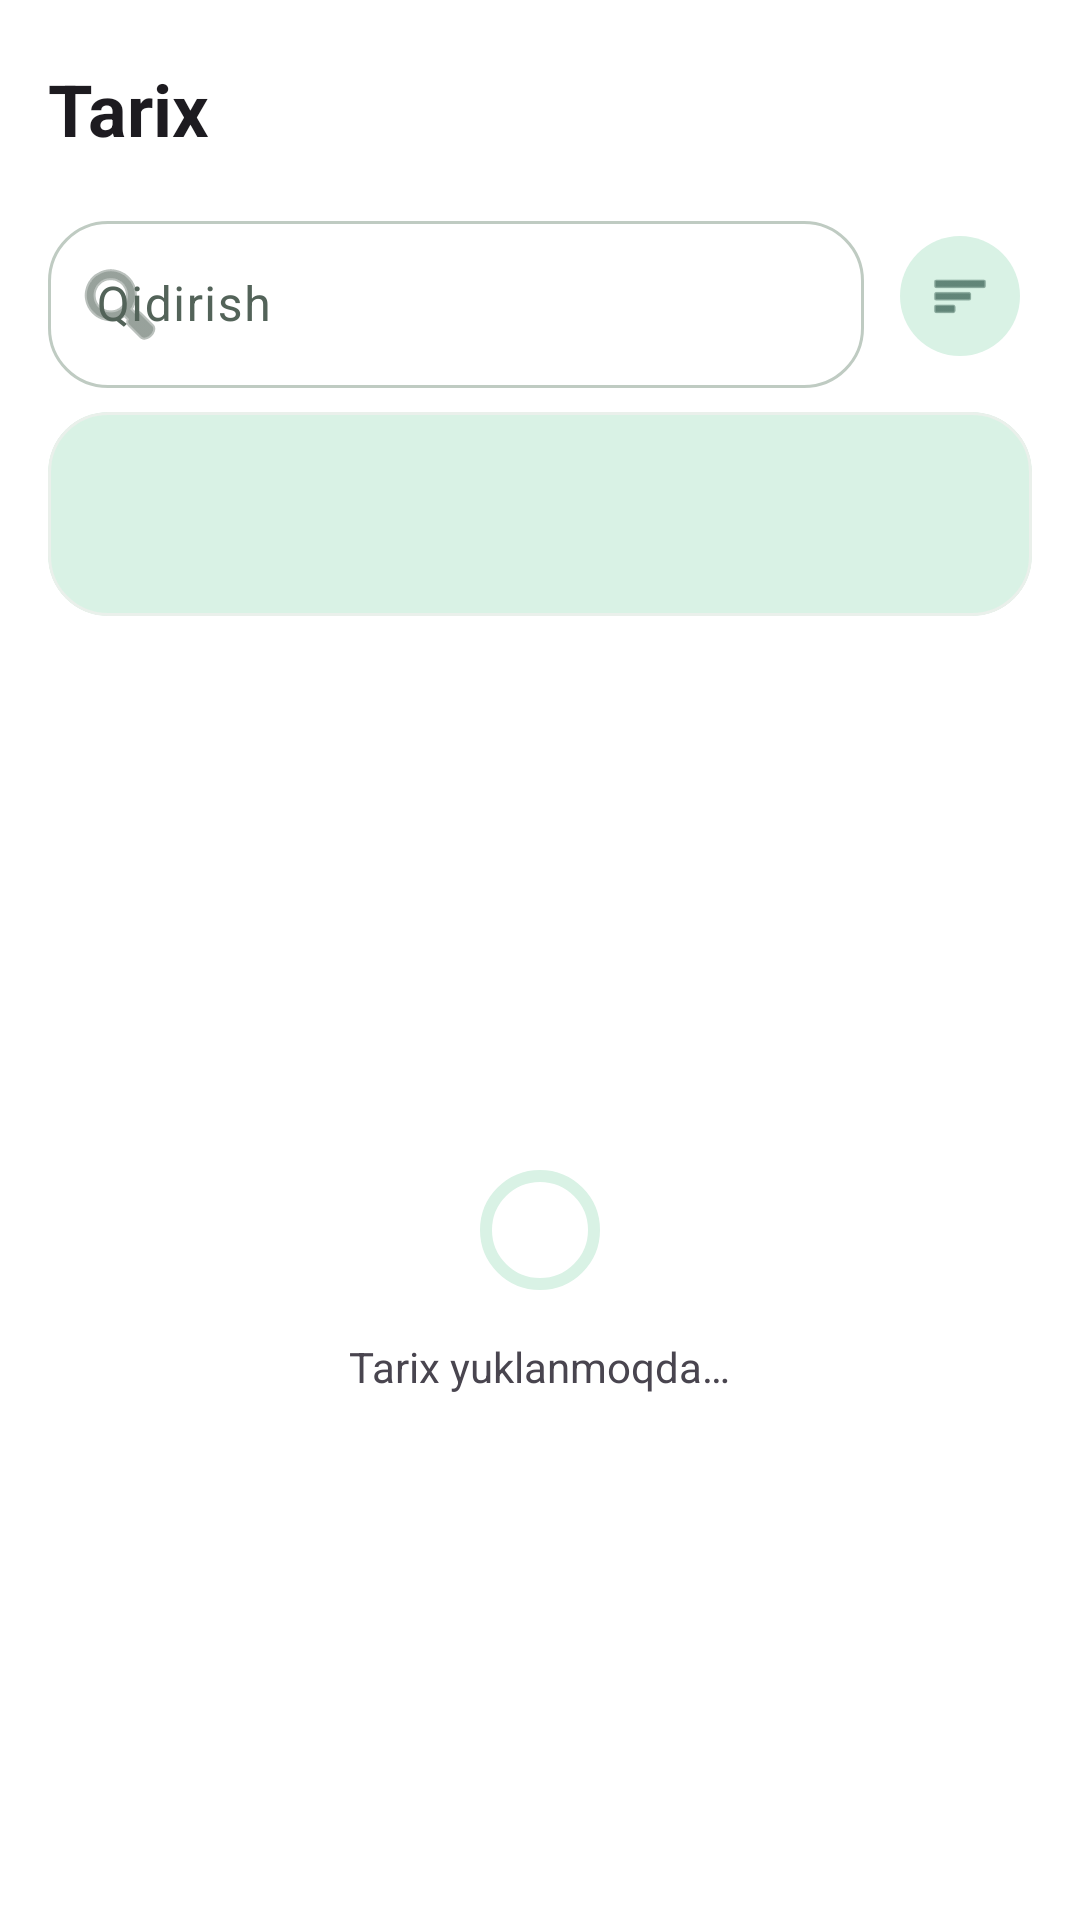

Icon click points for this 1080w x 1920h phone screenshot, format (x=x, y=y):
Filtr va saralash: (x=960, y=296)
